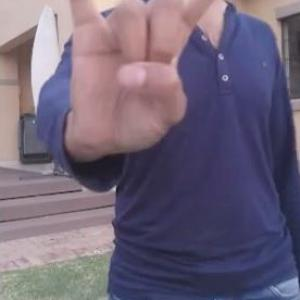takeoff-hand: (63, 0, 241, 155)
